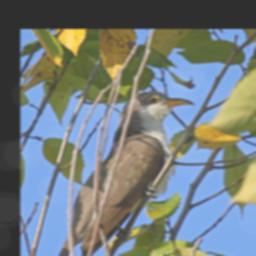Cuckoo: (70, 90, 225, 256)
